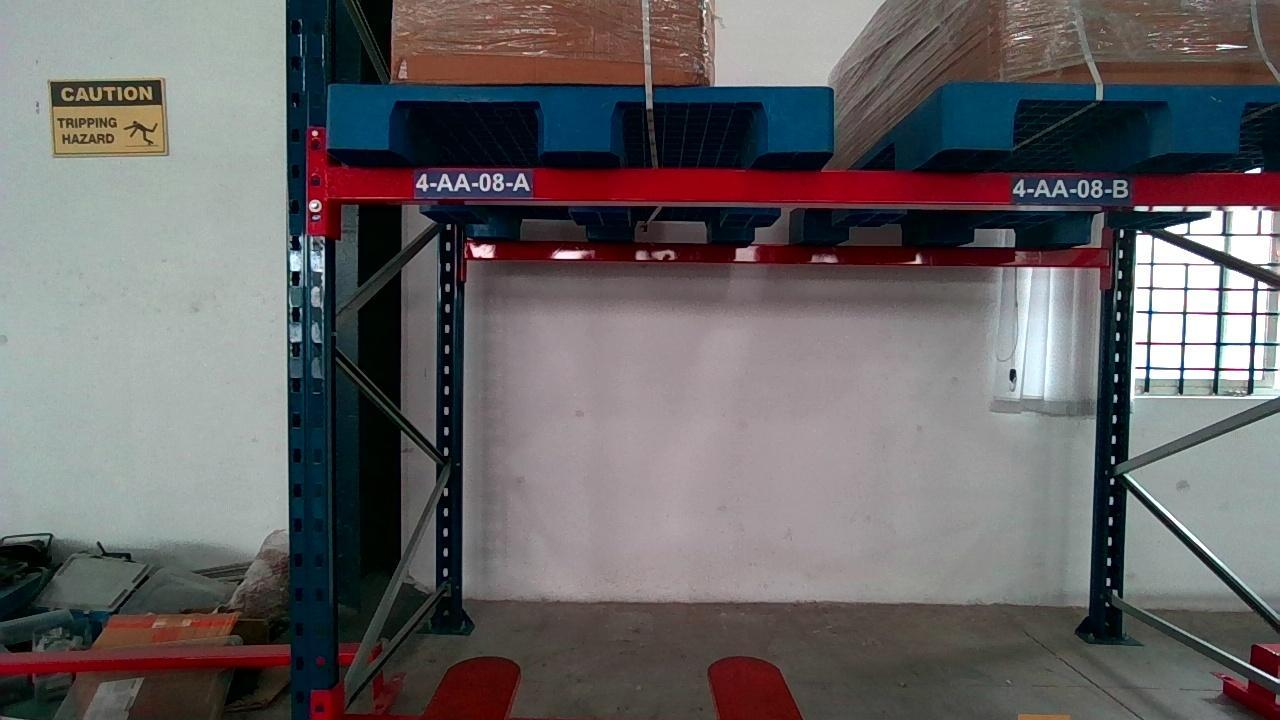h_rack: (326, 166, 1276, 206)
small_pallet: (328, 82, 832, 148), (945, 85, 1280, 157)
